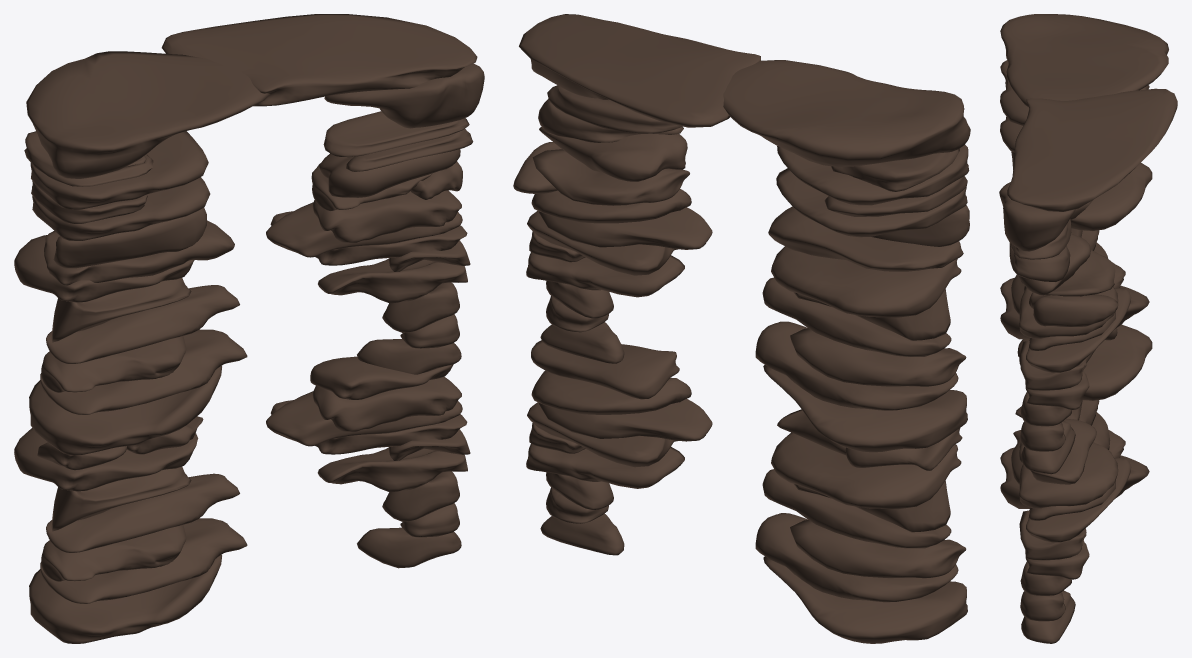
The model's file is door_exit_opened.fbx.
3 renders of one model, left to right at view 1: azimuth 30°, elevation 25°; view 2: azimuth 150°, elevation 25°; view 3: azimuth 270°, elevation 25°, orthographic. The views are drawn at different scales.
Visible parts, largest first — view 1: exit.opened; view 2: exit.opened; view 3: exit.opened.
Boxes of the visible parts, x1,y1,x2,y2 form: exit.opened: (14,14,484,643); exit.opened: (513,14,970,643); exit.opened: (999,14,1177,643).
Bounding box in the file's own units: 3.08 × 3.59 × 1.25.
